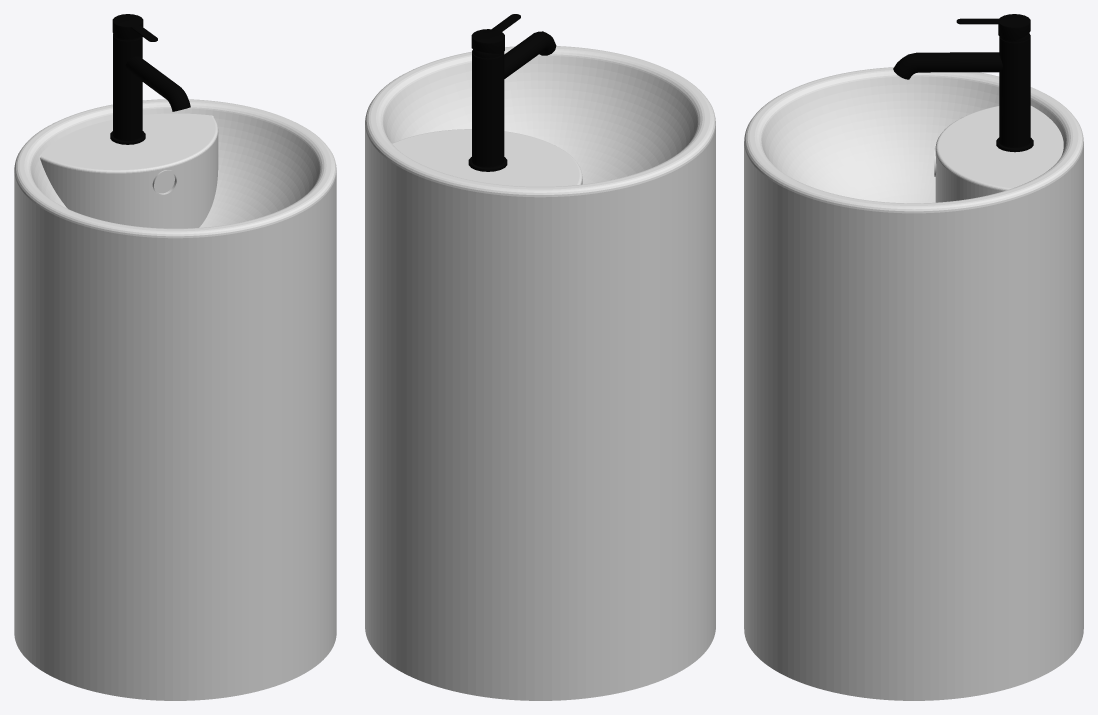
The model's file is kinkiSink2.gltf.
3 views of the same model, side by side, from view 1: azimuth 30°, elevation 25°; view 2: azimuth 150°, elevation 25°; view 3: azimuth 270°, elevation 25° (orthographic). The views are drawn at different scales.
Parts seen in each view (by area): view 1: kinkiSink2; view 2: kinkiSink2; view 3: kinkiSink2.
Boxes of the visible parts, x1,y1,x2,y2 form: kinkiSink2: (14,14,336,700); kinkiSink2: (365,14,715,700); kinkiSink2: (744,14,1083,700).
Size of the model in its own units: 1.5 by 2.96 by 1.5.
1 material, 1 textured.
